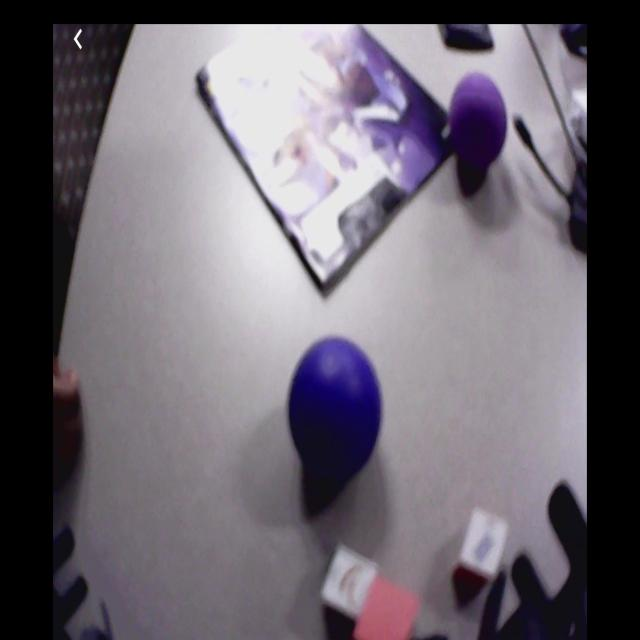ball: (291, 339, 382, 465), (451, 72, 508, 167)
